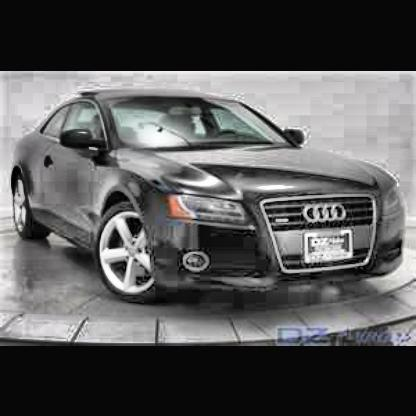Audi A5 Coupe 2012: (11, 91, 408, 312)
